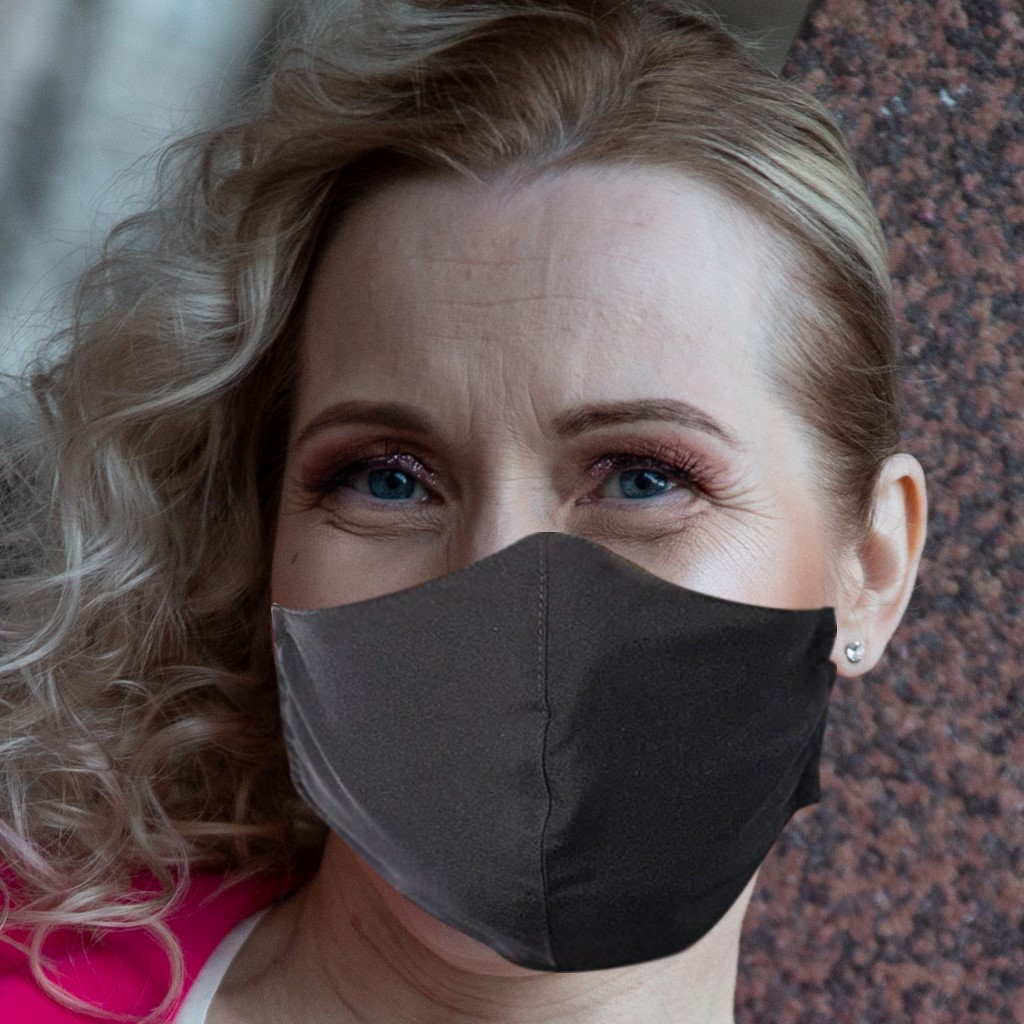con_mascara: (276, 169, 848, 968)
